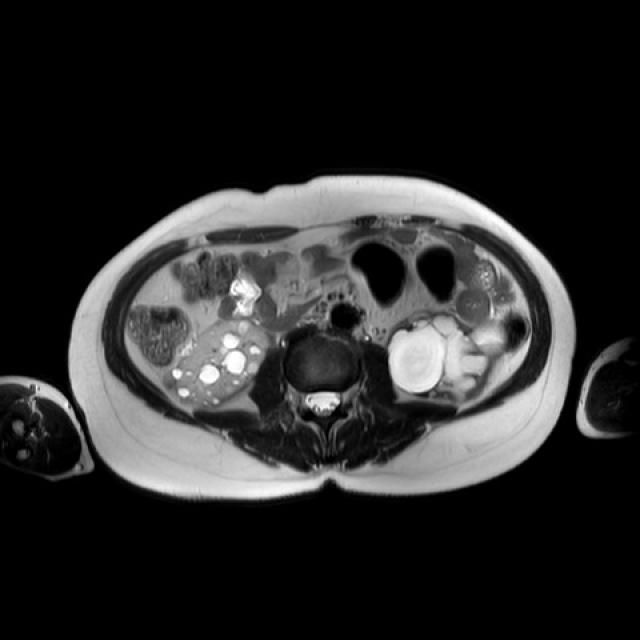sag: (165, 319, 268, 409)
sol: (387, 308, 505, 400)
